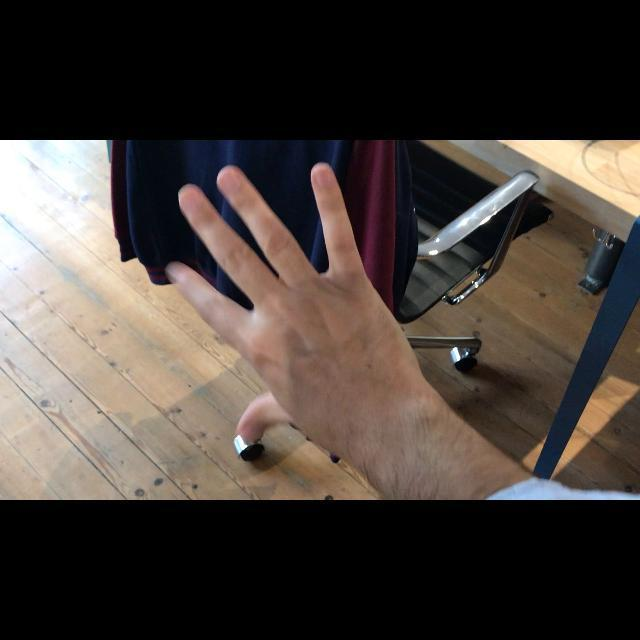bare_hand: (167, 161, 414, 443)
